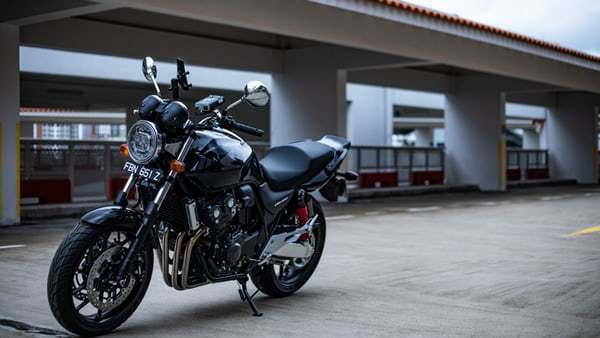25_label: (40, 40, 365, 337)
